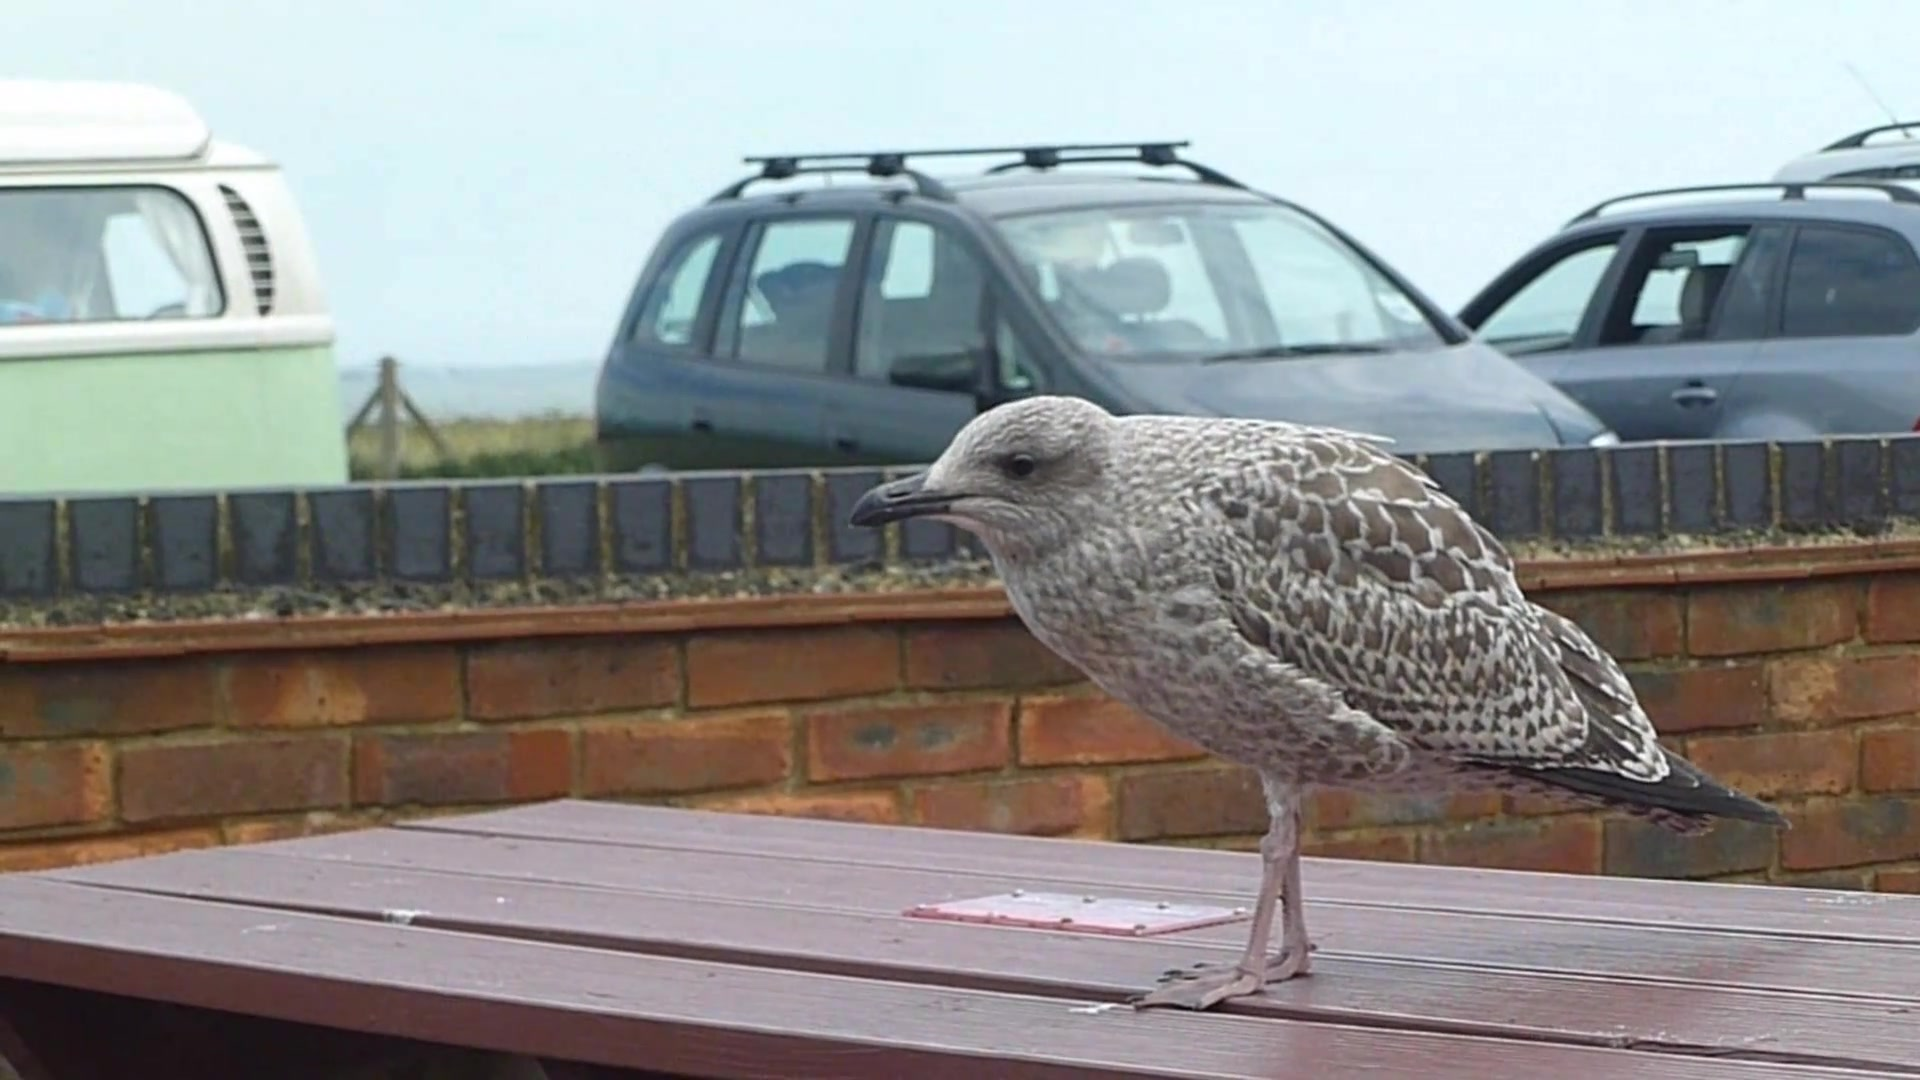bird: (852, 381, 1793, 1014)
